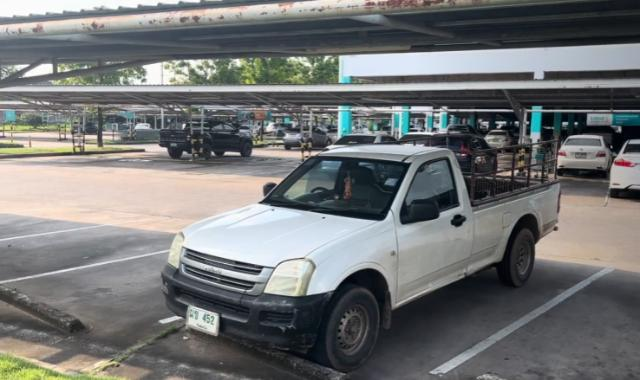pickup-truck: (159, 144, 565, 376)
